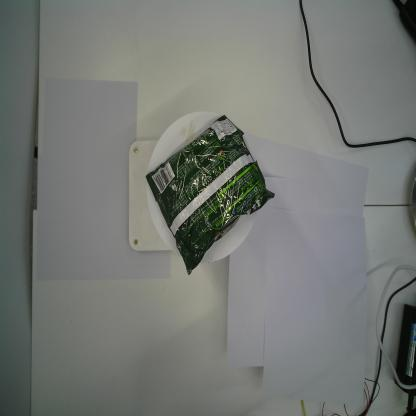Instant Noodles: (145, 113, 276, 277)
